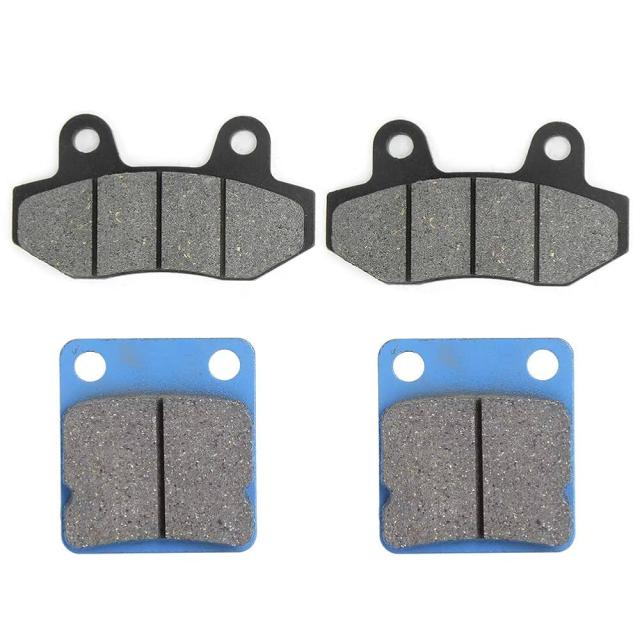brake_pad: (321, 111, 639, 288), (0, 112, 320, 284), (376, 333, 576, 560), (59, 335, 262, 556)
